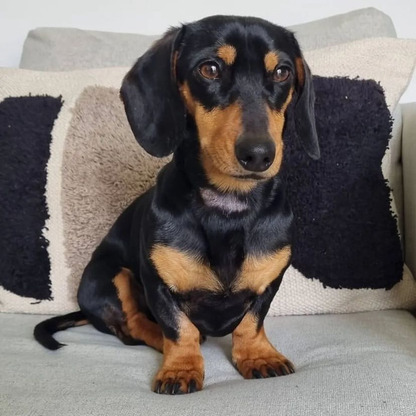dachshund: (81, 13, 326, 395)
